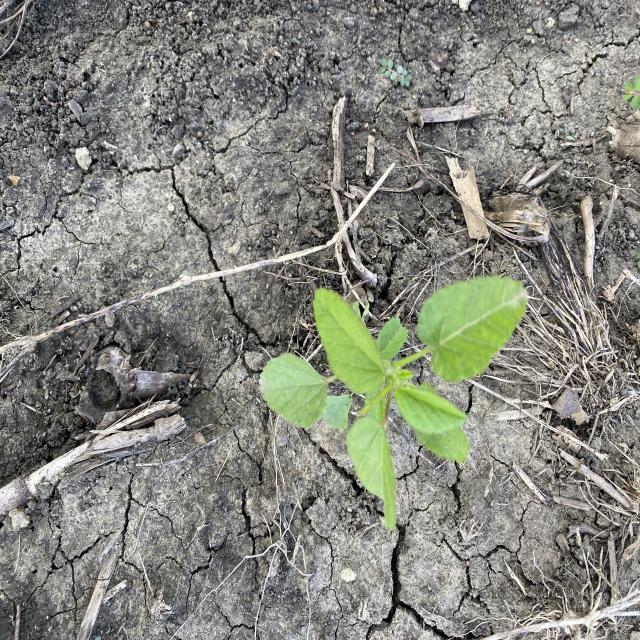PricklySida: (256, 275, 531, 535)
SpottedSpurge: (378, 55, 414, 89)
